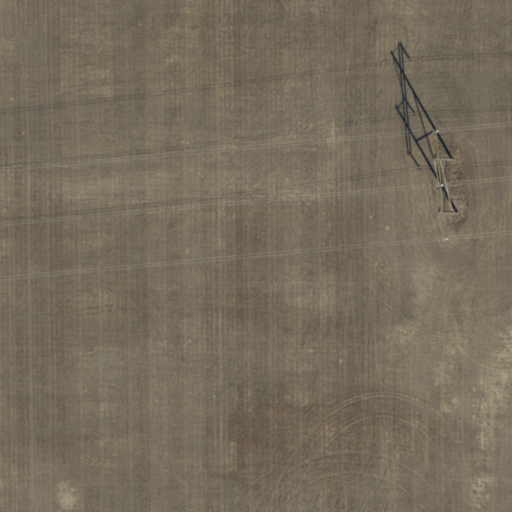TT: (423, 122, 468, 252)
